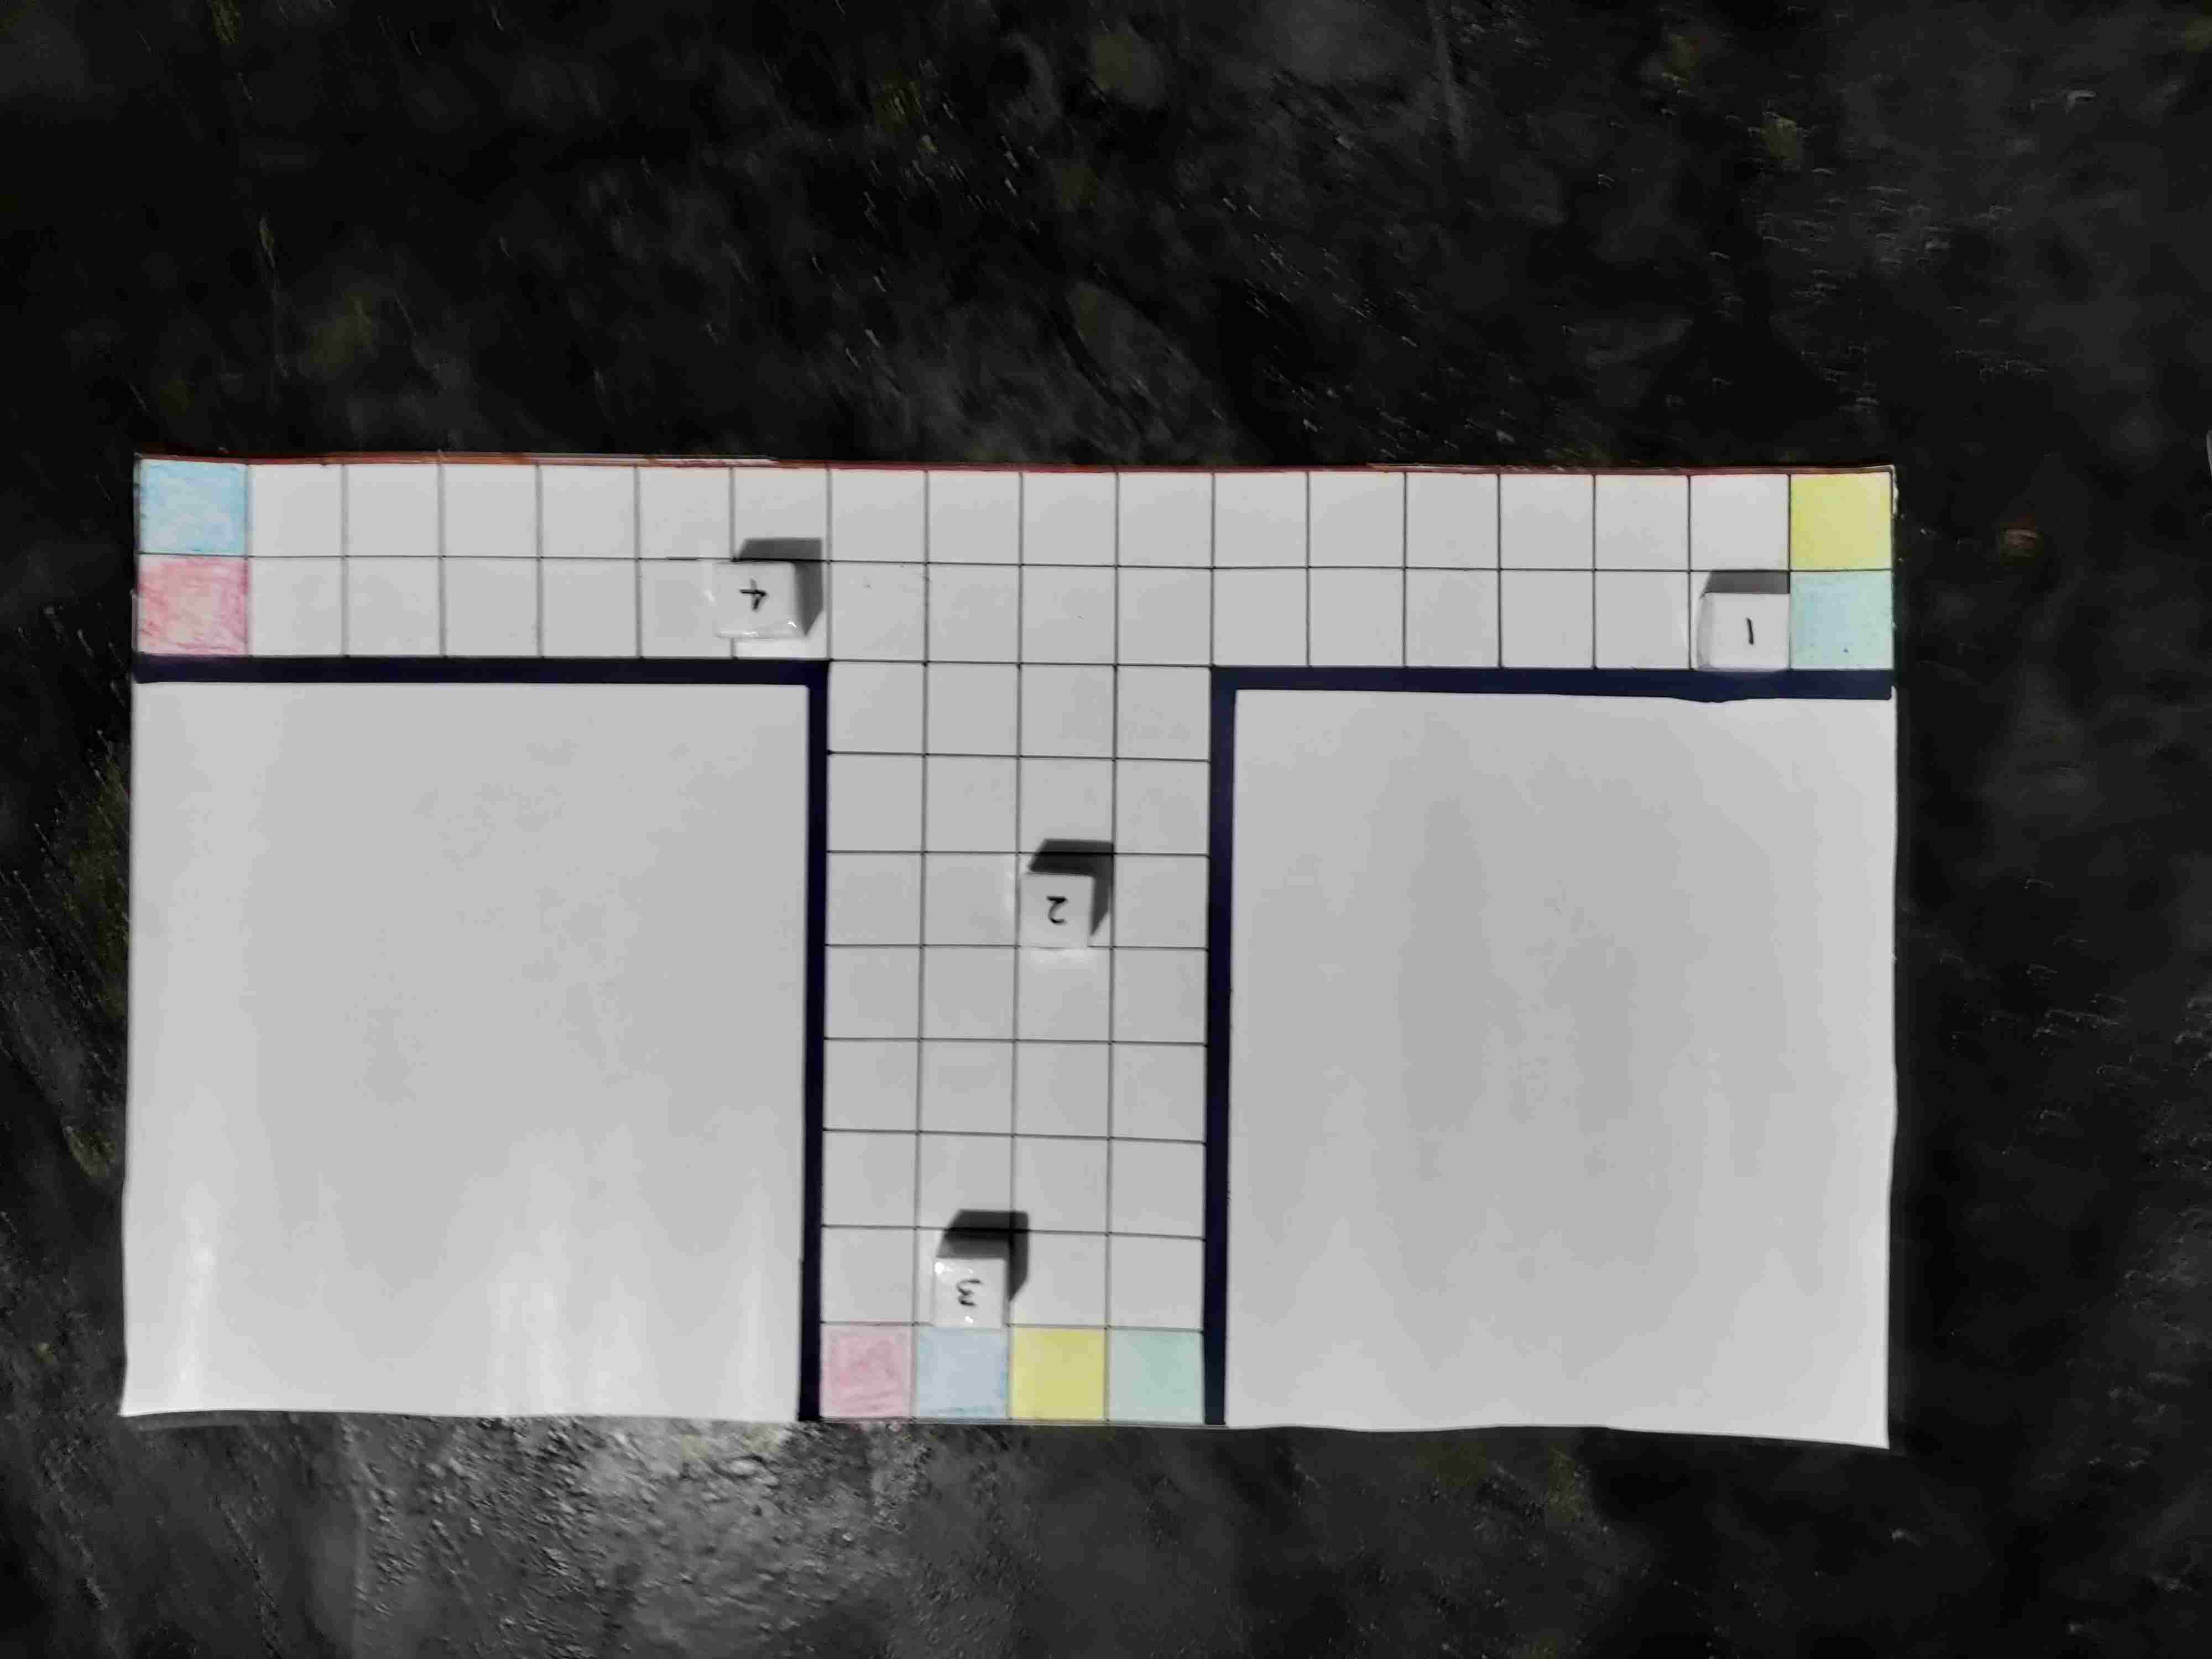arena: (131, 453, 1893, 1424)
bot: (1702, 589, 1787, 674), (714, 561, 796, 638), (1019, 871, 1099, 948), (934, 1262, 1007, 1330)
